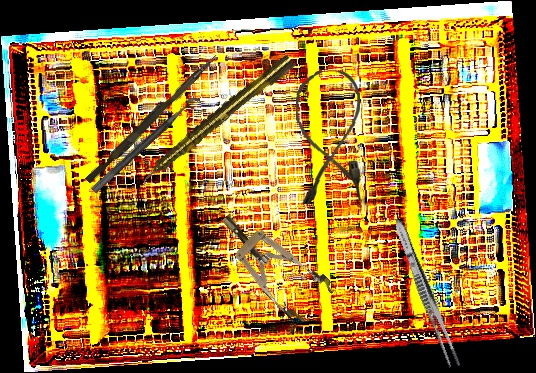Cannula: (294, 69, 364, 205)
Dressing Forceps: (389, 216, 464, 371)
Fixation Ring: (90, 93, 208, 203)
Handpiece: (135, 52, 297, 189)
Pusher: (85, 49, 218, 187)
Speculum: (206, 197, 338, 328)
